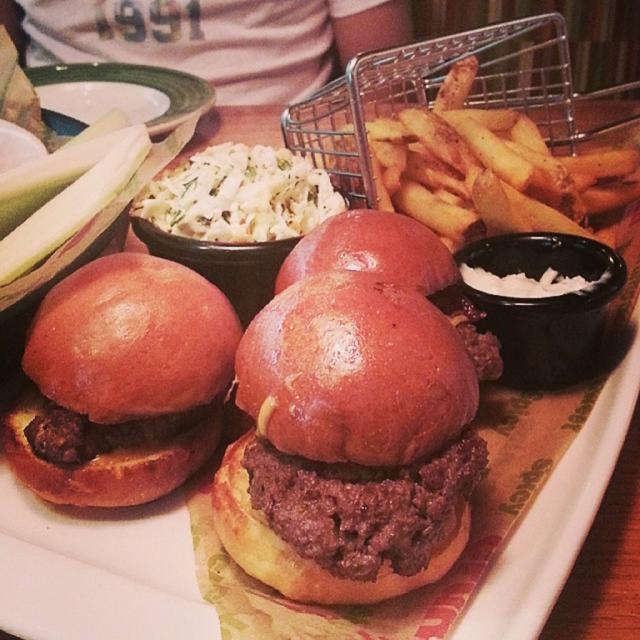Hamburger: (208, 270, 491, 605), (0, 252, 245, 510), (272, 206, 504, 384)
